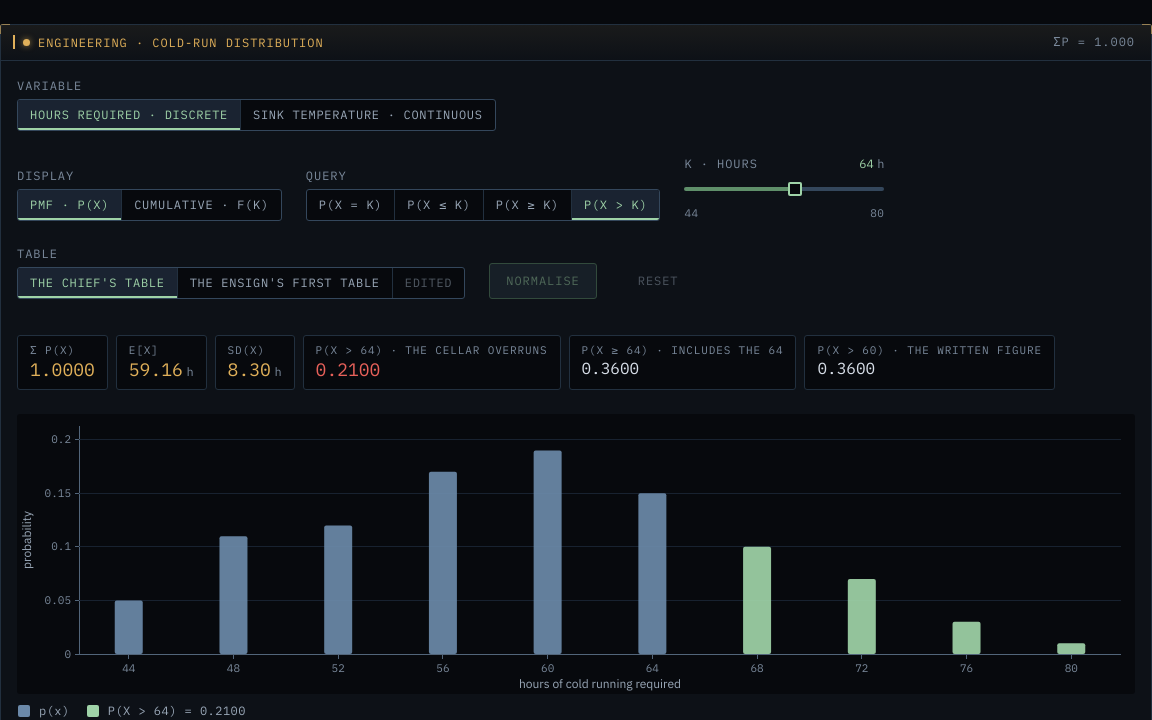
Test: <DistributionEditor> › switches to the cumulative step plot
Click the radio button labelled "cumulative · F(k)" at (202, 205), box [122, 190, 281, 220]
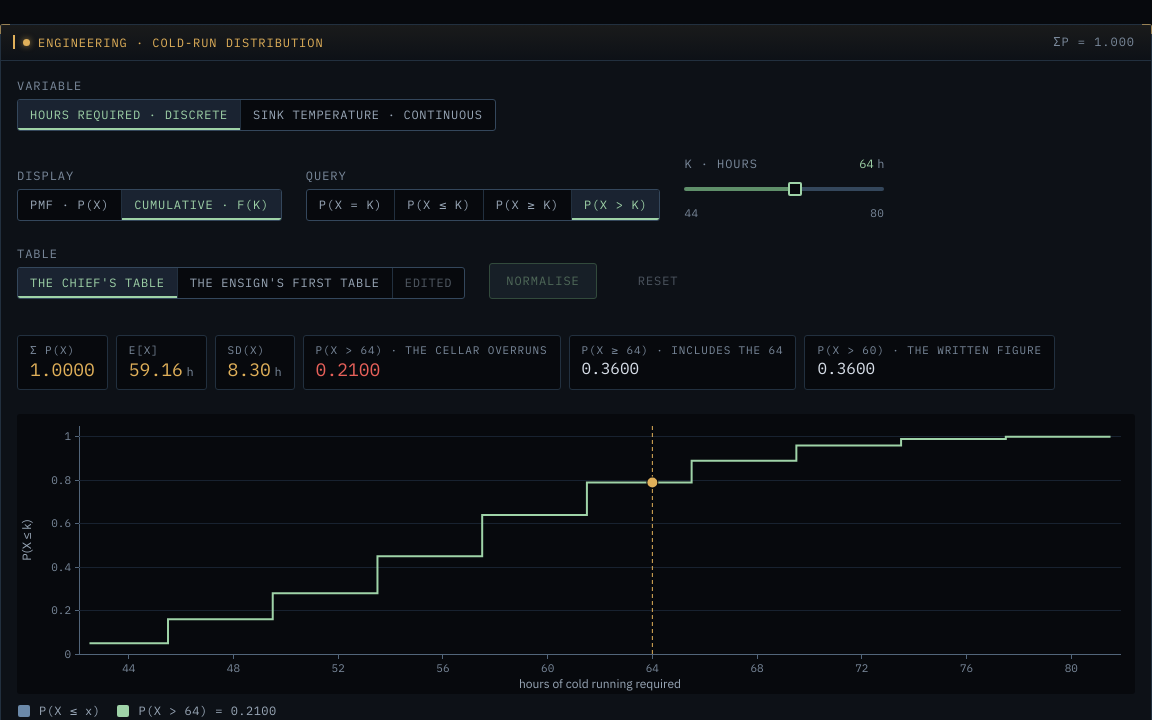
Now the picture named "Step plot of the cumulative probability" is shown, box [17, 414, 1135, 694]
